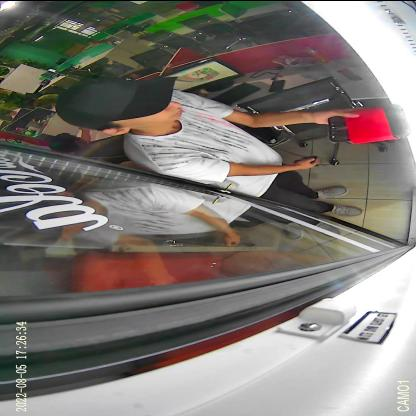red: (326, 106, 406, 144)
